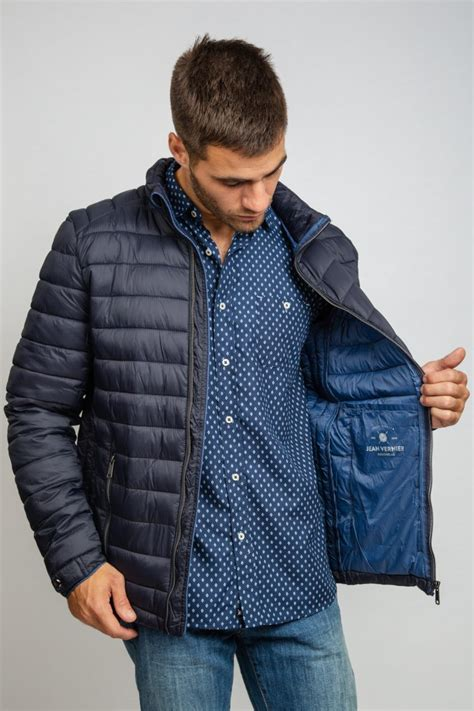nylon: (5, 157, 443, 636)
